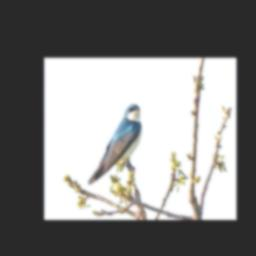Swallow: (85, 100, 145, 186)
